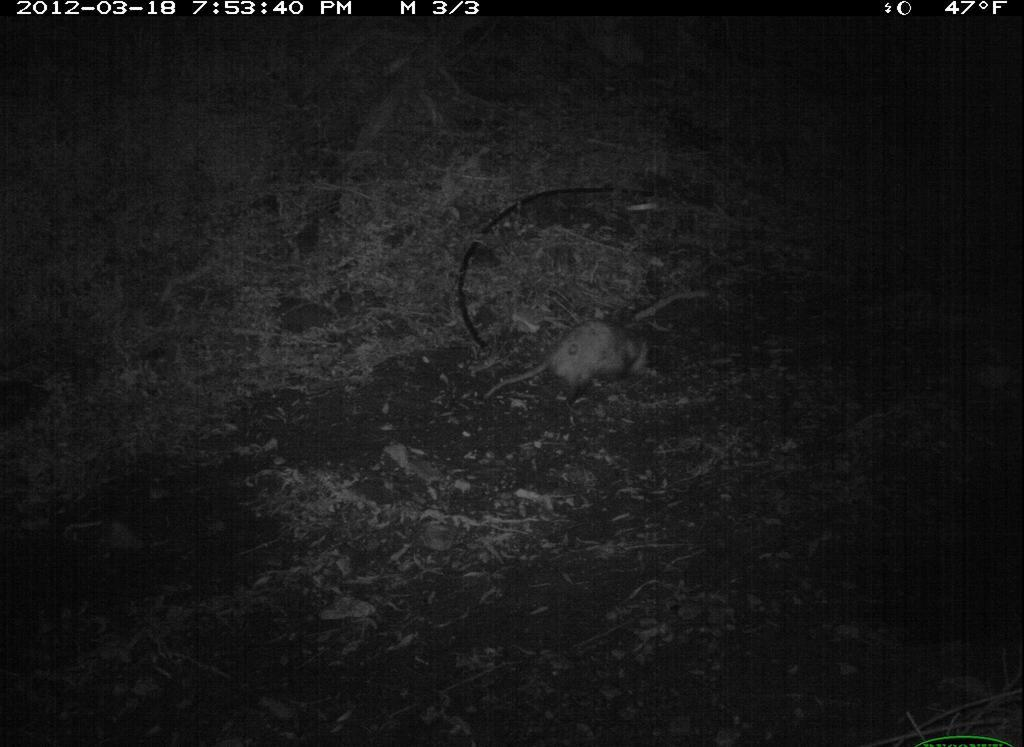opossum: (470, 297, 690, 423)
